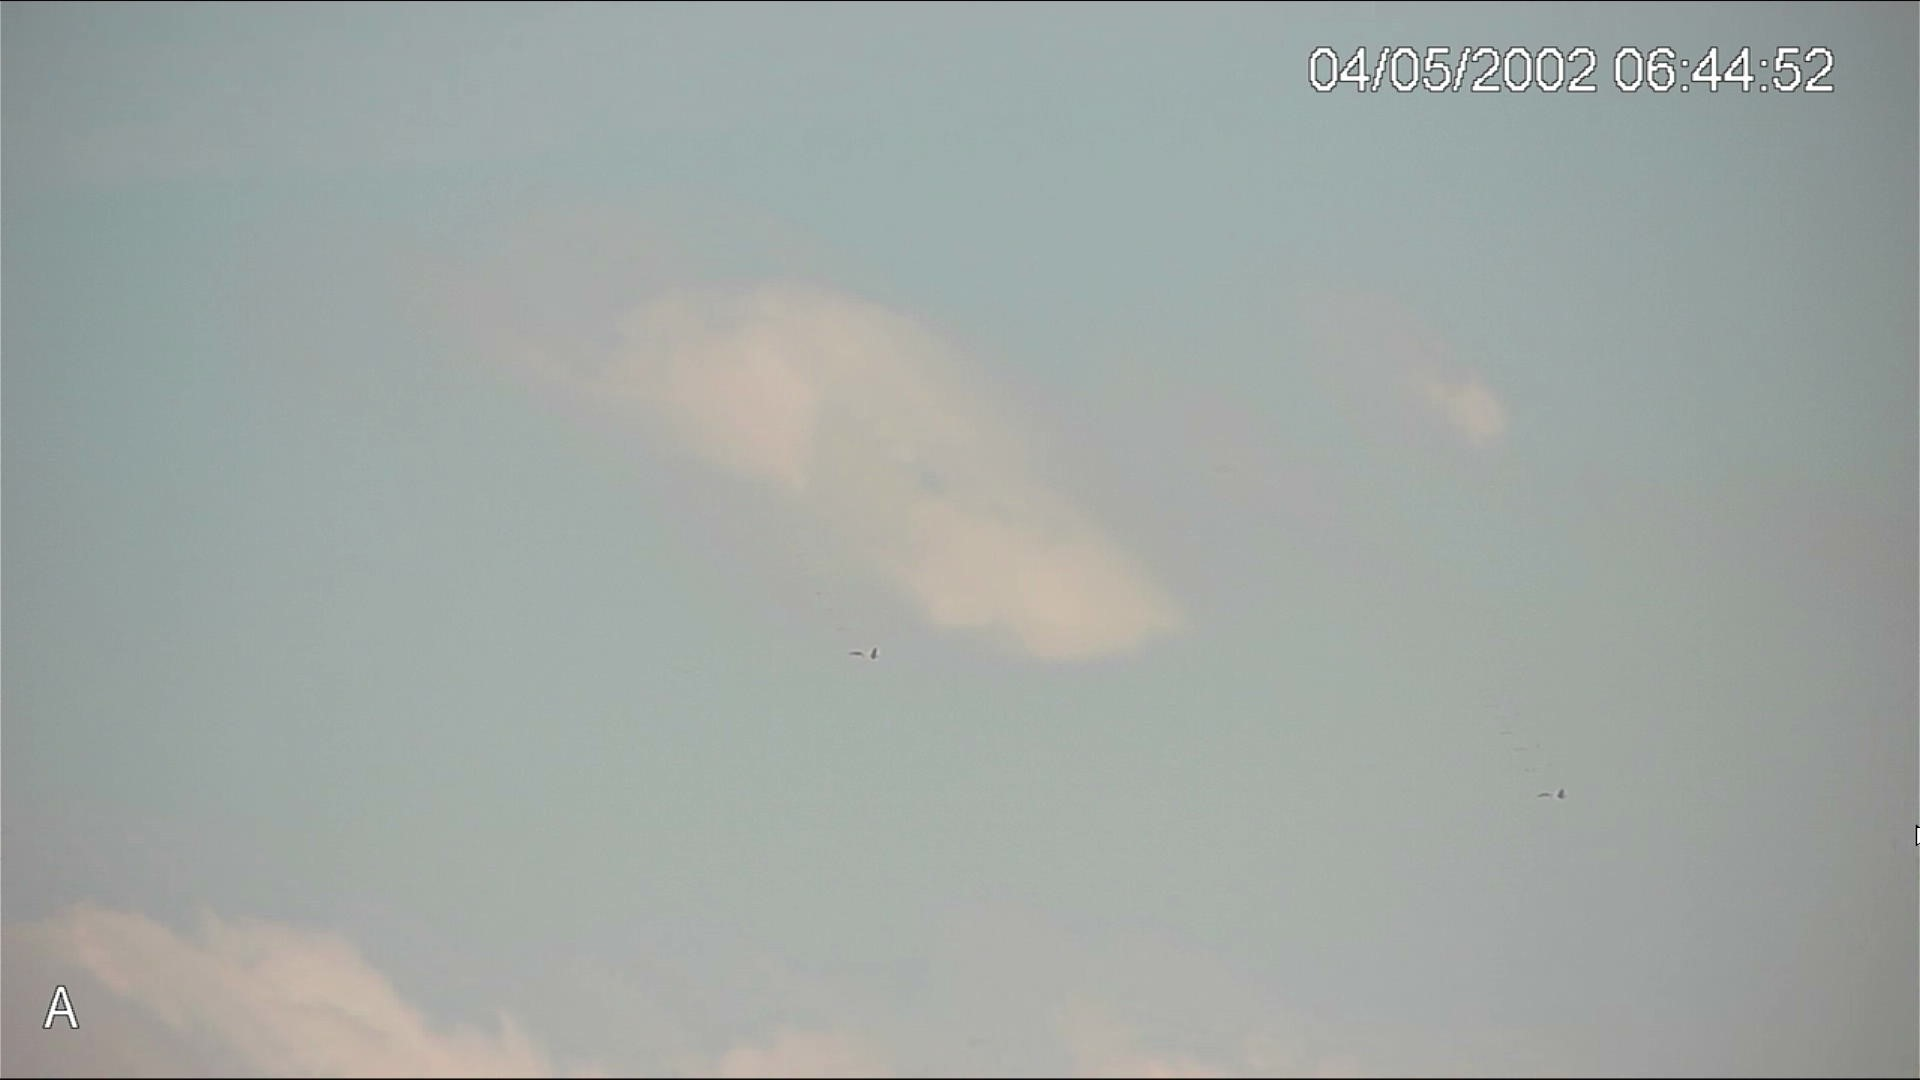SU_30: (843, 641, 884, 666), (1535, 786, 1571, 802)
